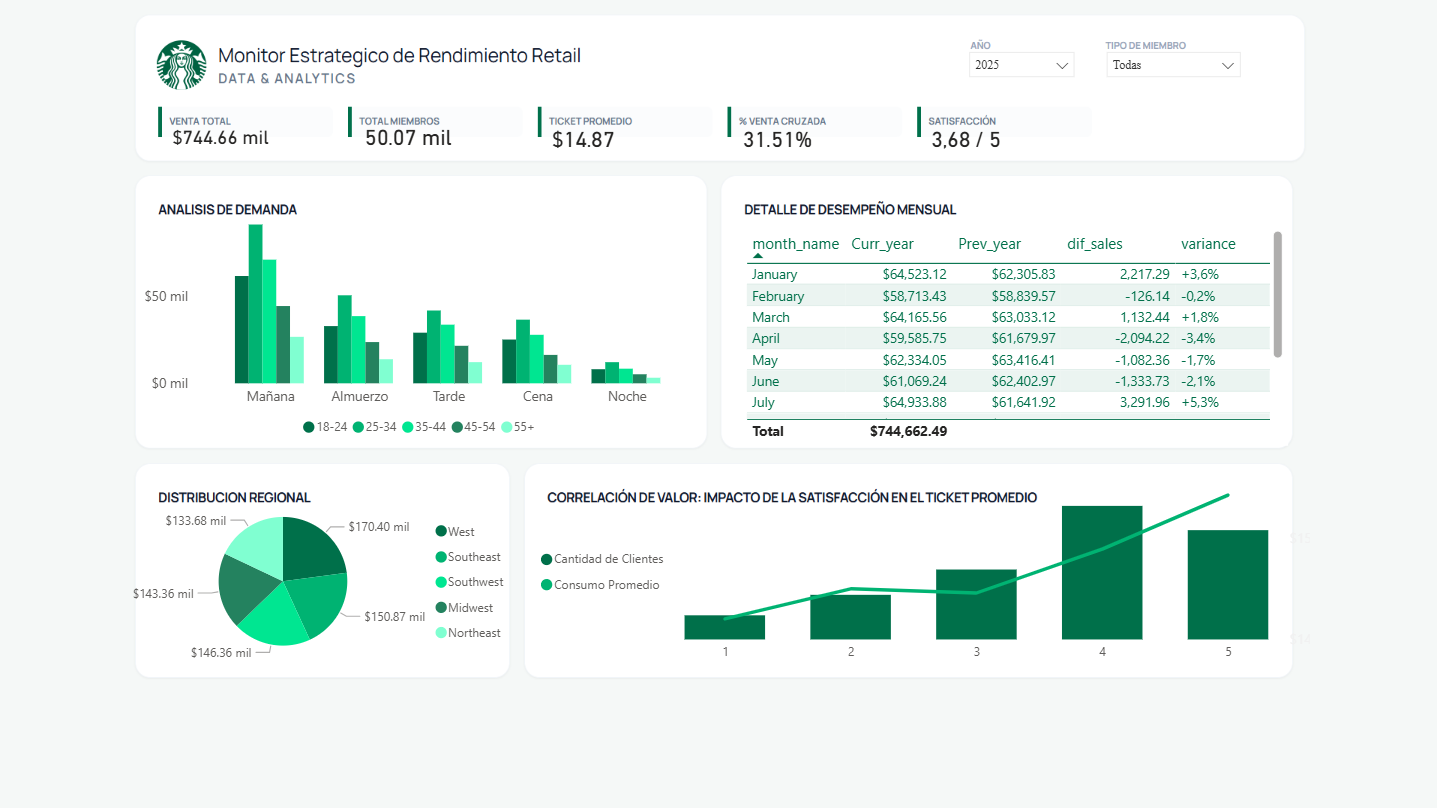

The dashboard page shown, as its layout file describes it:
{"tool":"powerbi","page":{"name":"Página 1","canvas":[1280,720],"ordinal":0},"visuals":[{"type":"shape","box":[822.1,50,322.1,35.7],"z":0},{"type":"clusteredColumnChart","fields":{"Category":["Sheet1.Horario"],"Y":["Sum(Sheet1.total_spend)"],"Series":["Sheet1.customer_age_group"]},"box":[123.6,186.4,502.7,211.8],"z":1000},{"type":"pieChart","fields":{"Y":["Sum(Sheet1.total_spend)"],"Category":["Sheet1.region"]},"box":[112.5,437.5,350,160],"z":2000},{"type":"slicer","fields":{"Values":["Sheet1.year"]},"box":[850.7,36.4,114.3,49.3],"z":3000},{"type":"card","fields":{"Values":["Avg(Sheet1.total_spend)"]},"box":[477.9,105,81.4,39.3],"z":4000},{"type":"slicer","fields":{"Values":["Sheet1.customer_tier"]},"box":[973.6,37.1,139.3,42.9],"z":5000},{"type":"card","fields":{"Values":["Sheet1.Satisfacción Formateada"]},"box":[814.8,107.5,89.3,34.3],"z":6000},{"type":"card","fields":{"Values":["Sum(Sheet1.total_spend)"]},"box":[118.6,84.9,154.7,77.9],"z":7000},{"type":"card","fields":{"Values":["Sheet1.% Venta Cruzada (Comida)"]},"box":[648.8,108.8,85,32.5],"z":8000},{"type":"card","fields":{"Values":["CountNonNull(Sheet1.customer_tier)"]},"box":[288.2,105.5,150,35.5],"z":9000},{"type":"shape","box":[570,170.9,50,30],"z":10000},{"type":"shape","box":[1095,171.2,50,30],"z":11000},{"type":"image","box":[92.2,36.7,137.8,43.9],"z":12000},{"type":"tableEx","fields":{"Values":["Sheet1.month_name","Sheet1.Current_year_sales","Sheet1.Previos_year_sales","Sheet1.dif_prev_vs_curr_year","Sheet1.Formated_var"]},"box":[657.5,201.2,487.5,196.2],"z":13000},{"type":"lineClusteredColumnComboChart","fields":{"Category":["Sheet1.customer_satisfaction"],"Y":["CountNonNull(Sheet1.customer_satisfaction)"],"Y2":["Avg(Sheet1.total_spend)"]},"box":[475,420,693.8,177.5],"z":14000}]}

Visuals, with their boxes in screenshot pixels (x1, y1, x2, y2), scaled from the page's 1280x720 canvas onto the 1437x808 screenshot:
shape: box(923, 56, 1285, 96)
clusteredColumnChart - Sheet1.Horario x Sum(Sheet1.total_spend): box(139, 209, 703, 447)
pieChart - Sum(Sheet1.total_spend) x Sheet1.region: box(126, 491, 519, 671)
slicer - Sheet1.year: box(955, 41, 1083, 96)
card - Avg(Sheet1.total_spend): box(537, 118, 628, 162)
slicer - Sheet1.customer_tier: box(1093, 42, 1249, 90)
card - Sheet1.Satisfacción Formateada: box(915, 121, 1015, 159)
card - Sum(Sheet1.total_spend): box(133, 95, 307, 183)
card - Sheet1.% Venta Cruzada (Comida): box(728, 122, 824, 159)
card - CountNonNull(Sheet1.customer_tier): box(324, 118, 492, 158)
shape: box(640, 192, 696, 225)
shape: box(1229, 192, 1285, 226)
image: box(104, 41, 258, 90)
tableEx - Sheet1.month_name x Sheet1.Current_year_sales: box(738, 226, 1285, 446)
lineClusteredColumnComboChart - Sheet1.customer_satisfaction x CountNonNull(Sheet1.customer_satisfaction): box(533, 471, 1312, 671)
